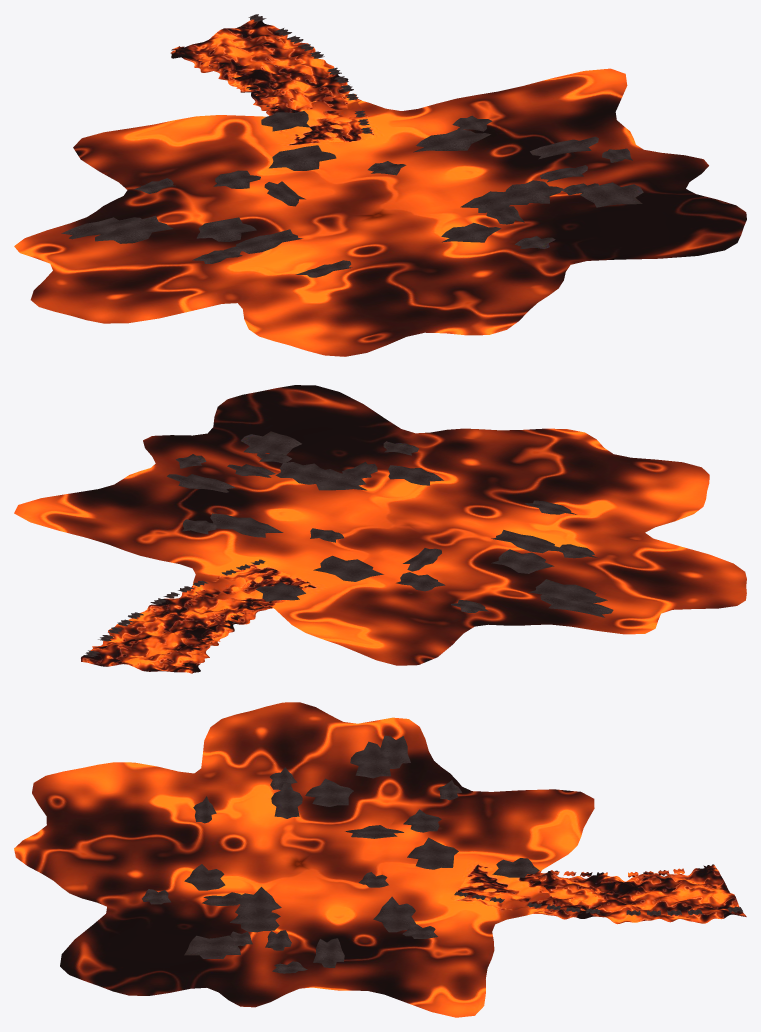
File: b4lod_lava_pool_v3.glb
3 views of the same model, one above another, from view 1: azimuth 30°, elevation 25°; view 2: azimuth 150°, elevation 25°; view 3: azimuth 270°, elevation 25° (orthographic). The views are drawn at different scales.
Visible parts, largest first — view 1: b4lod_lava_pool_v3; view 2: b4lod_lava_pool_v3; view 3: b4lod_lava_pool_v3.
Boxes of the visible parts, x1,y1,x2,y2 form: b4lod_lava_pool_v3: (14,14,746,356); b4lod_lava_pool_v3: (14,385,746,673); b4lod_lava_pool_v3: (14,702,746,1017).
Size of the model in its own units: 5.03 by 0.0813 by 4.92.
1 material, 1 textured.
